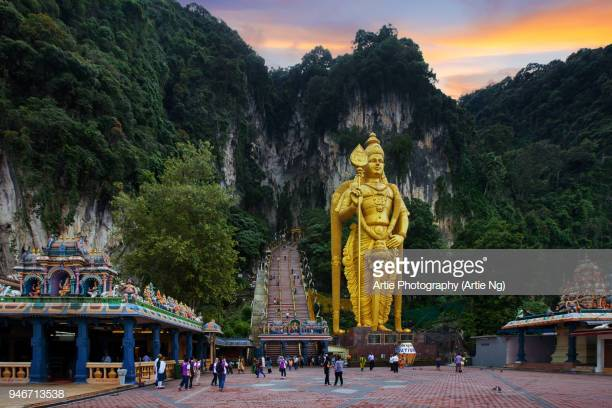Hindu Temple: (316, 130, 407, 318)
